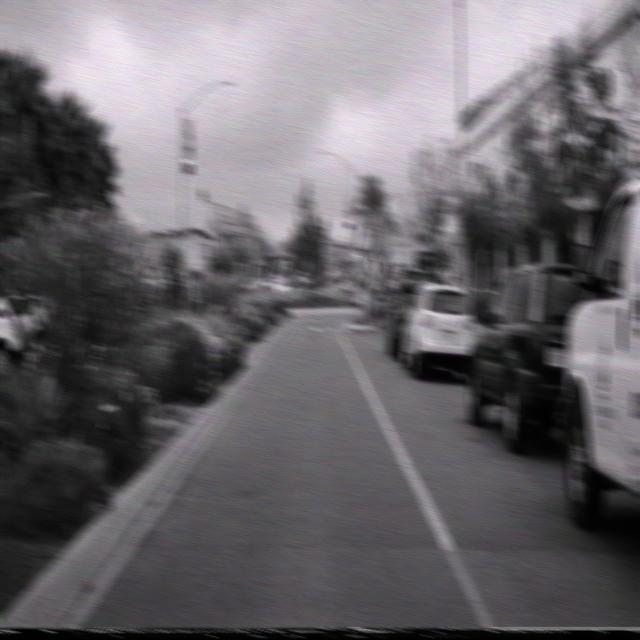pedestrianCrossing: (366, 249, 385, 279)
